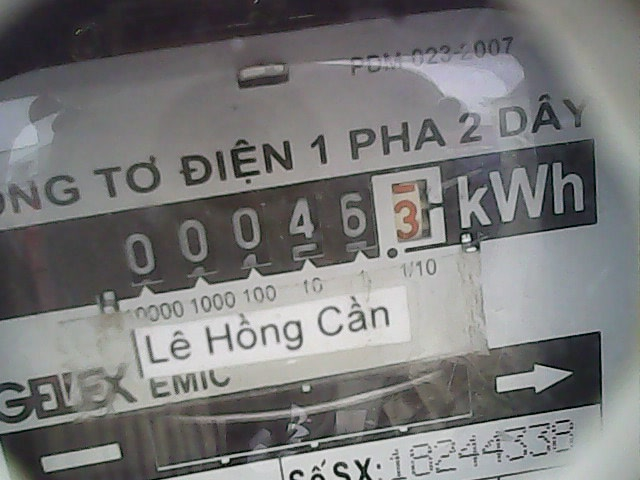phy_plate: (111, 165, 457, 290)
